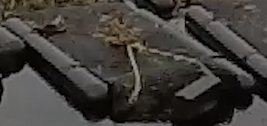bag: (25, 10, 255, 107)
